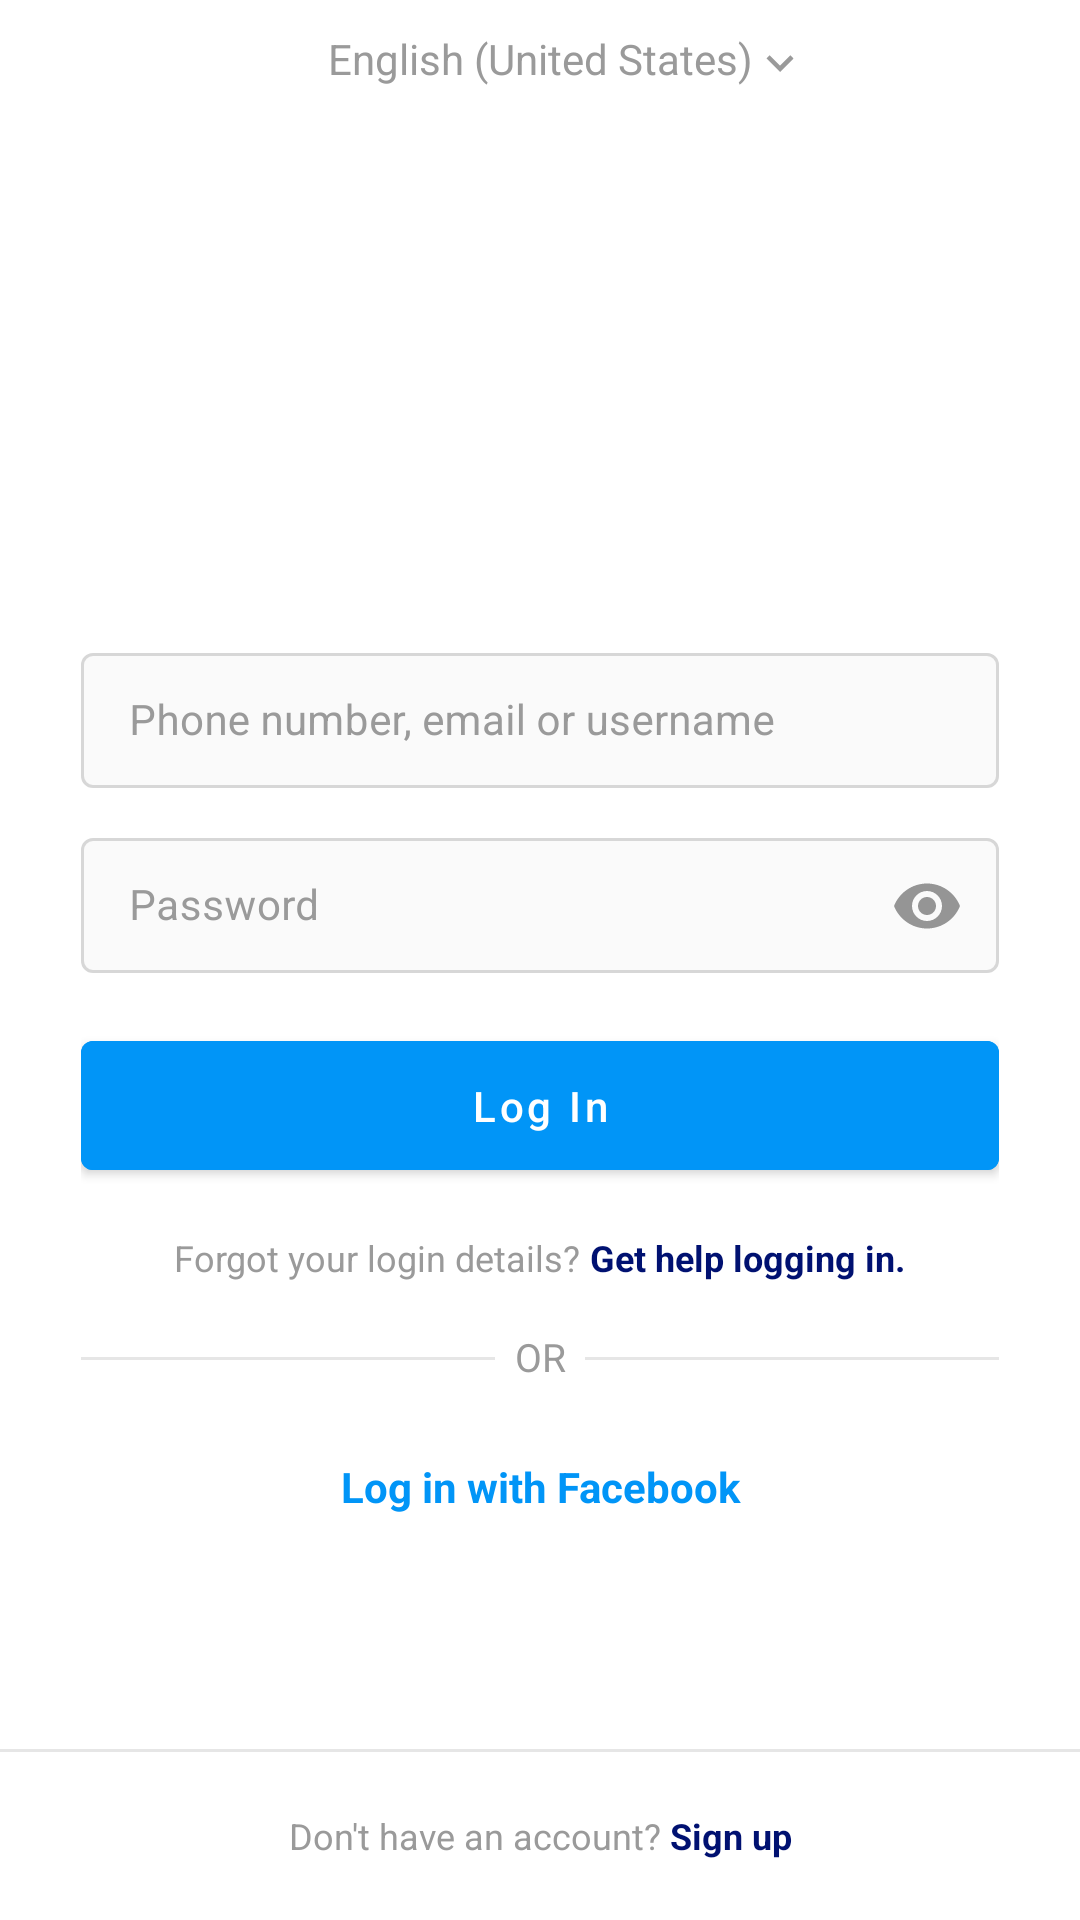

Locate icon controls on the screen. Image size 1080w x 1920h, boxes as Rect(x1, y1, x2, y2).
chevron down: Rect(766, 55, 794, 72)
